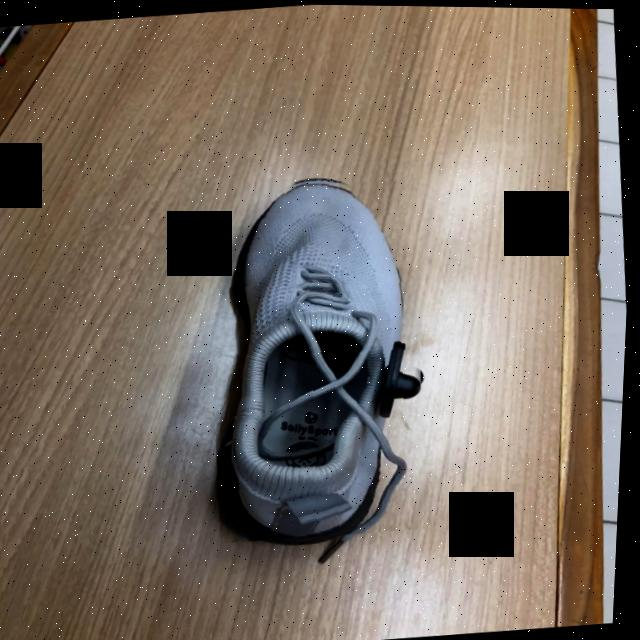shoe: (221, 182, 425, 539)
